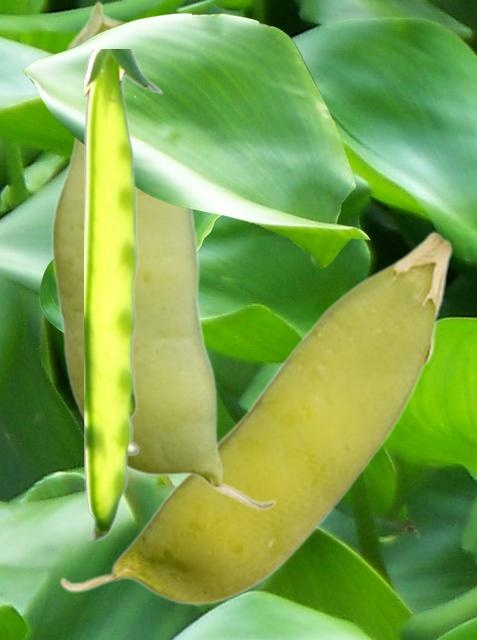pea: (59, 231, 452, 604), (48, 0, 277, 510), (84, 49, 162, 539)
